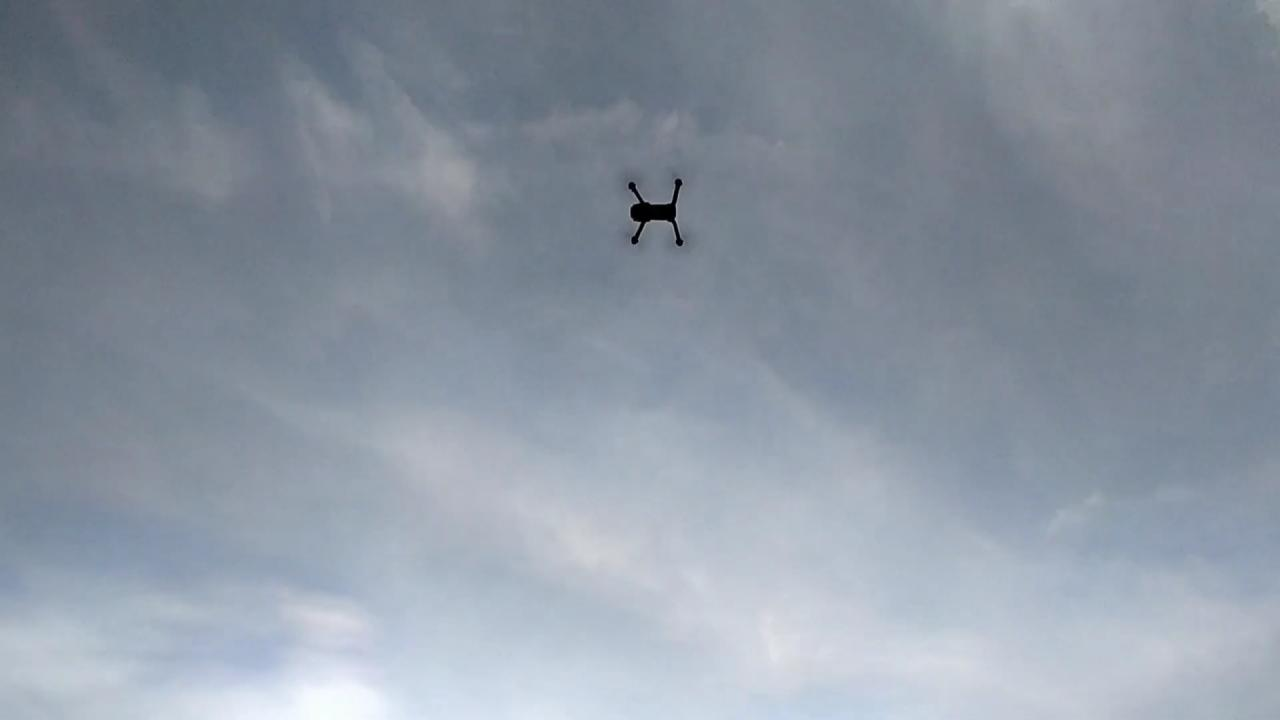Drone: (618, 168, 696, 260)
